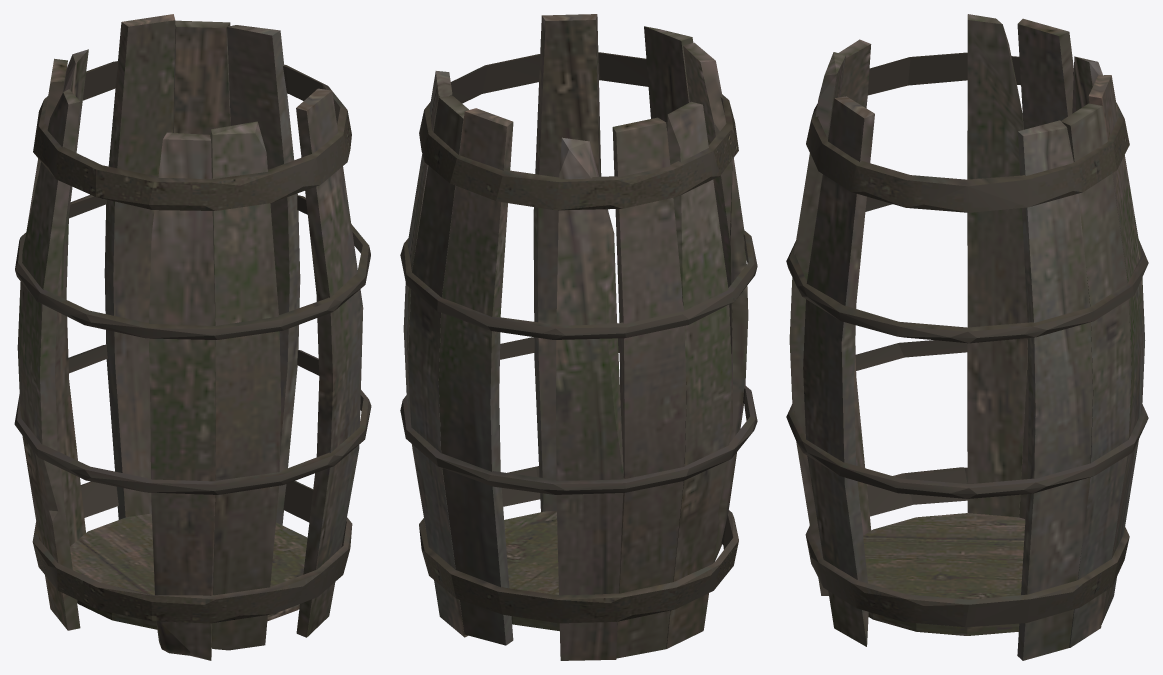
The model's file is Barrel001.fbx.
3 renders of one model, left to right at view 1: azimuth 30°, elevation 25°; view 2: azimuth 150°, elevation 25°; view 3: azimuth 270°, elevation 25°, orthographic.
Parts seen in each view (by area): view 1: barrel001; view 2: barrel001; view 3: barrel001.
Boxes of the visible parts, left/top/right/bottom form: barrel001: left=14, top=14, right=371, bottom=660; barrel001: left=400, top=14, right=757, bottom=660; barrel001: left=786, top=14, right=1148, bottom=660.
Bounding box in the file's own units: 80.21 × 130 × 80.5.
